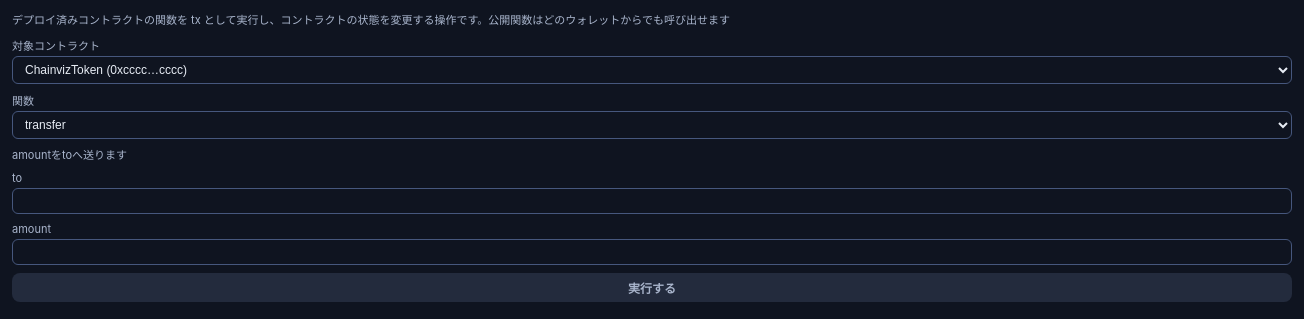
it: CallForm (ARCHITECTURE.md §6.5-3) › shows the selected function's one-line description (Issue #213)
Expected: the text "amountをtoへ送ります" is shown, [12,148,127,162]
Select "donate" in the dropdown with test id "operation-call-function" at (652, 124), box [12,110,1292,138]
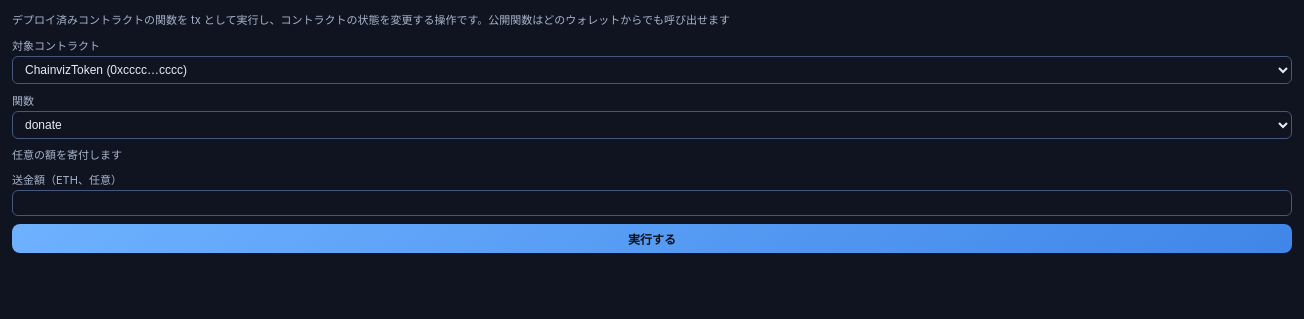
Result: the text "任意の額を寄付します" is shown at [12,148,122,162]
